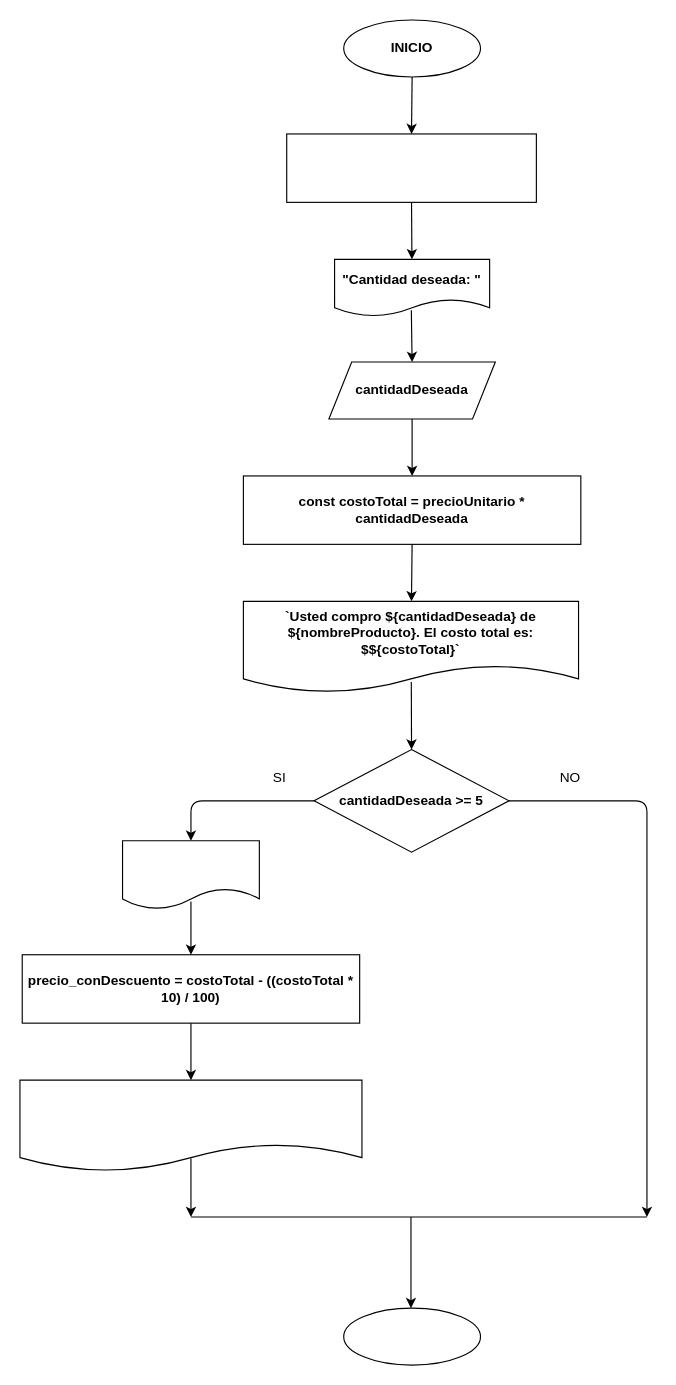
The diagram is 676 pixels wide and 1385 high, and some of its shapes have lost their labels. Each missing label, with the centre of its shape:
`El costo total, ahora con un 10% de descuento, es: $${precio_conDescuento}`: [190,1125]
`Tenes un 10% de descuento!!!`: [190,874]
FIN: [412,1336]
let nombreProducto = "Chocolate" let precioUnitario = 300: [411,167]
